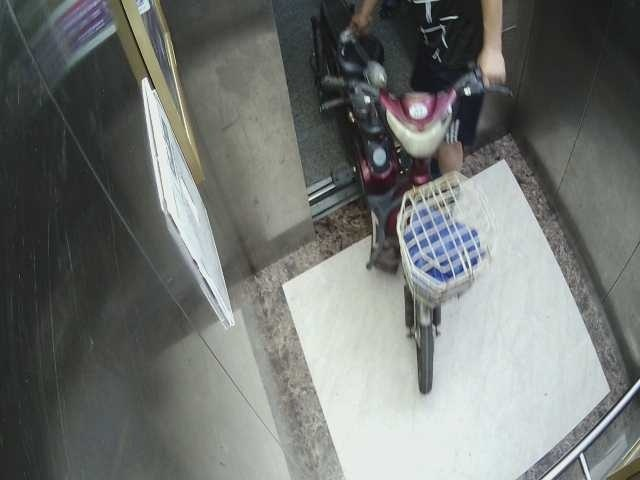emotor: (308, 14, 485, 402)
